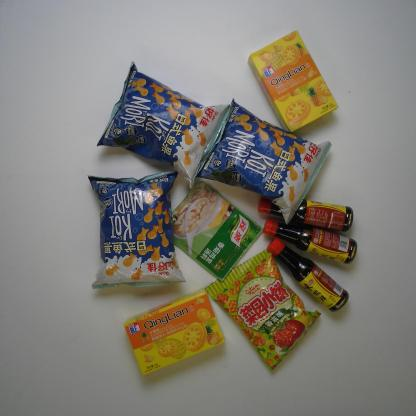Dessert: (248, 30, 338, 132), (124, 289, 225, 376)
Puffed Food: (195, 98, 333, 225), (96, 61, 231, 190), (205, 246, 321, 370), (88, 169, 186, 289)
Seasoner: (157, 180, 265, 282), (267, 238, 349, 312), (263, 219, 358, 265), (257, 197, 354, 232)
